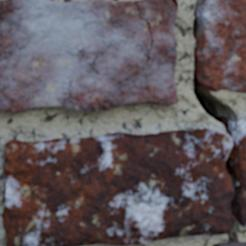brick: (0, 0, 177, 112), (197, 0, 245, 92), (218, 242, 245, 245)
broken_brick: (1, 128, 233, 245), (237, 119, 245, 205), (242, 210, 245, 227)
crack: (192, 2, 245, 243), (134, 0, 153, 63), (170, 0, 178, 6)
